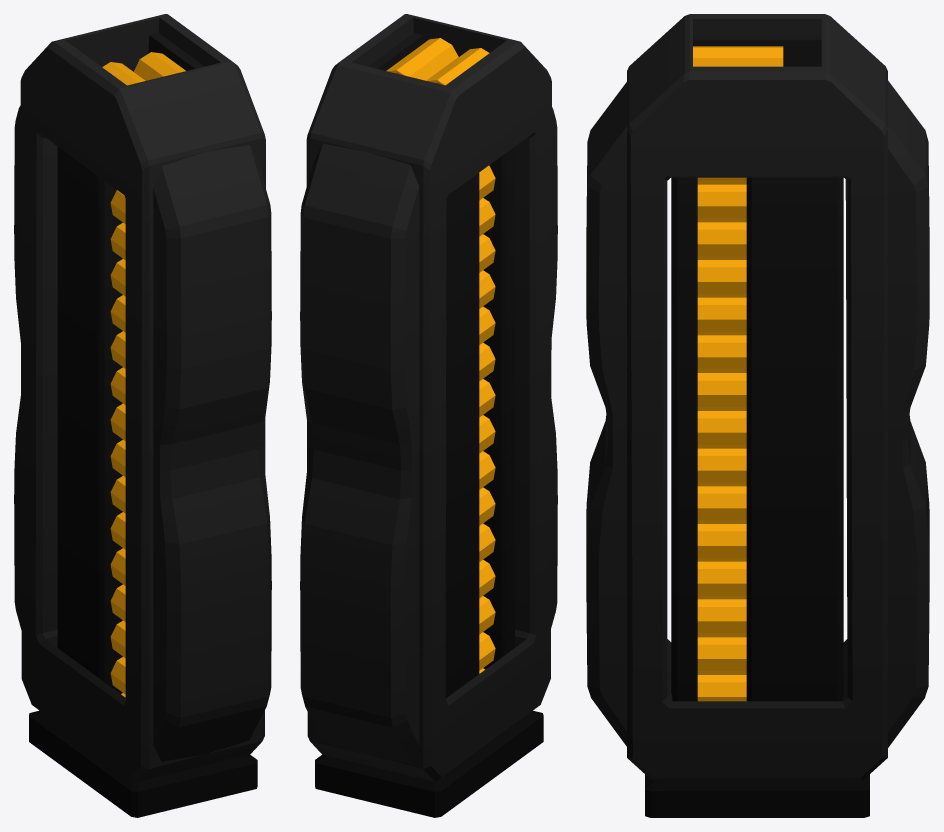
Rendered from Msh_Magazine_B.FBX.
3 views of the same model, side by side, from view 1: azimuth 30°, elevation 25°; view 2: azimuth 150°, elevation 25°; view 3: azimuth 270°, elevation 25° (orthographic). The views are drawn at different scales.
Visible parts, largest first — view 1: Msh_Magazine_Body_B, Msh_Magazine_B; view 2: Msh_Magazine_Body_B, Msh_Magazine_B; view 3: Msh_Magazine_Body_B, Msh_Magazine_B.
Boxes of the visible parts, x1,y1,x2,y2 form: Msh_Magazine_Body_B: (14,14,271,781); Msh_Magazine_B: (29,33,257,817); Msh_Magazine_Body_B: (300,14,557,781); Msh_Magazine_B: (315,33,543,817); Msh_Magazine_Body_B: (586,14,929,780); Msh_Magazine_B: (645,35,869,817).
Size of the model in its own units: 2.78 by 6.27 by 14.96.
